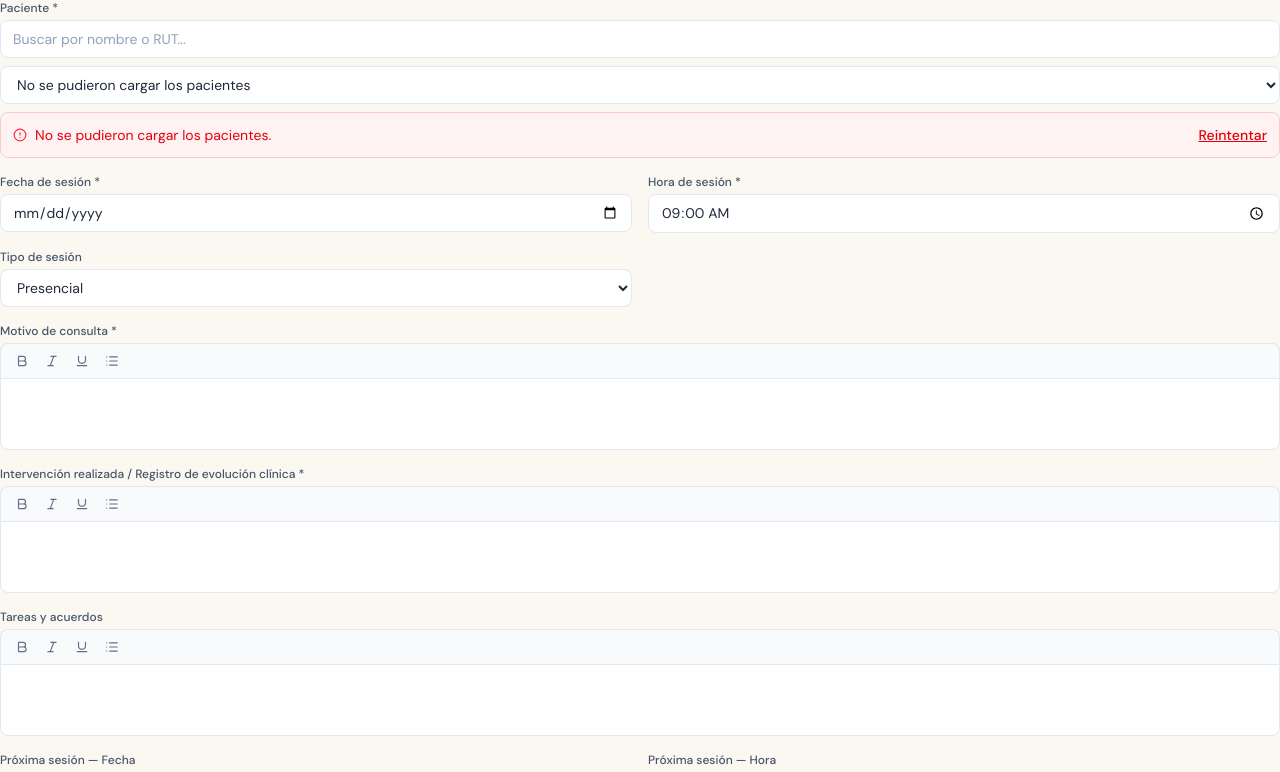
Test case: ConsultationForm — select de pacientes › si falla la carga deshabilita el select, muestra el error y permite reintentar
expect the text "No se pudieron cargar los pacientes." is shown: met, box [35,125,271,145]
expect the dropdown labelled "Paciente *" is disabled: met, box [0,66,1279,104]
Click the button "Reintentar" at (1233, 135), box [1198,125,1267,145]
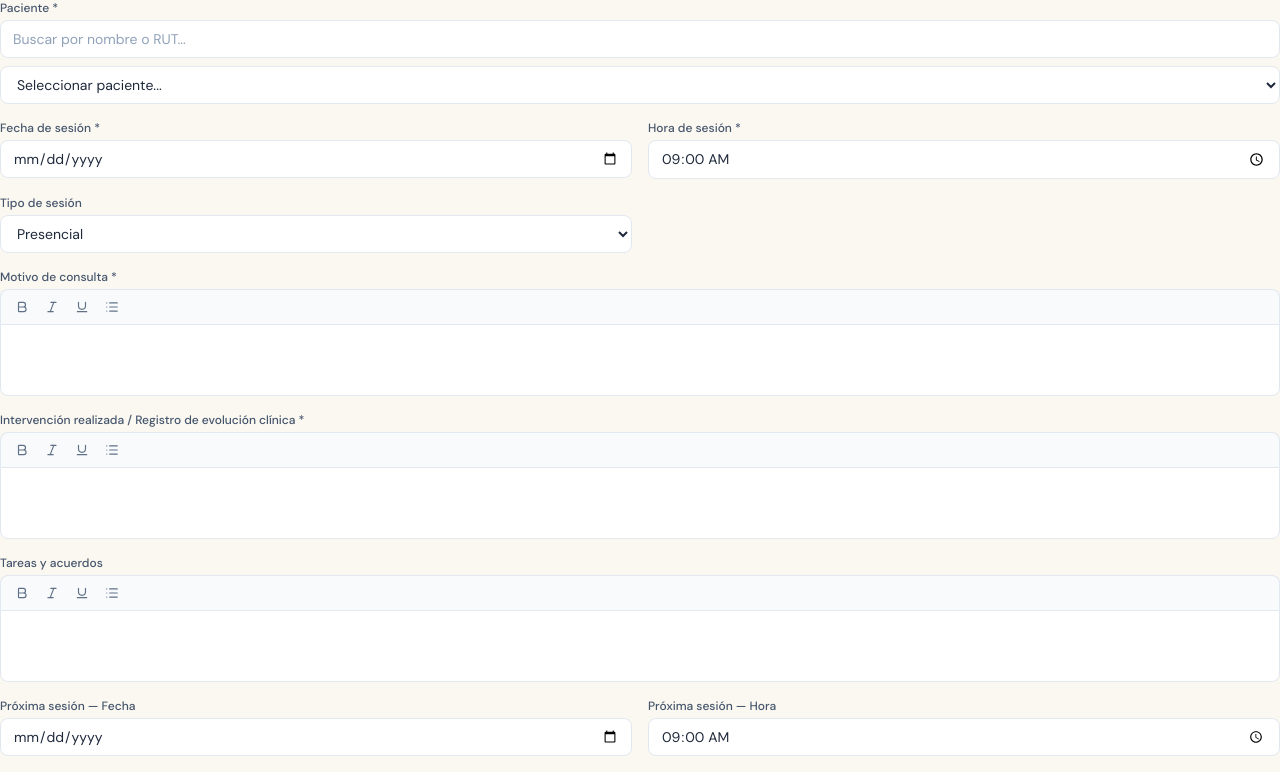
expect the dropdown labelled "Paciente *" is enabled: met, box [0,66,1279,104]
